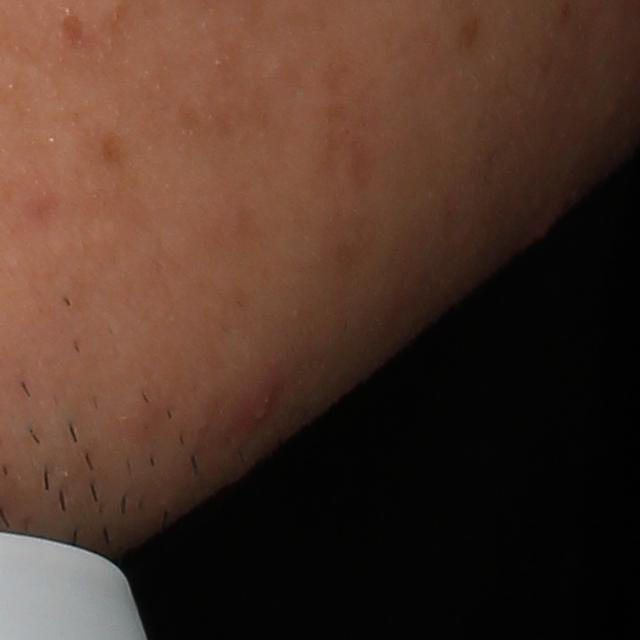pustule: (229, 377, 282, 438)
